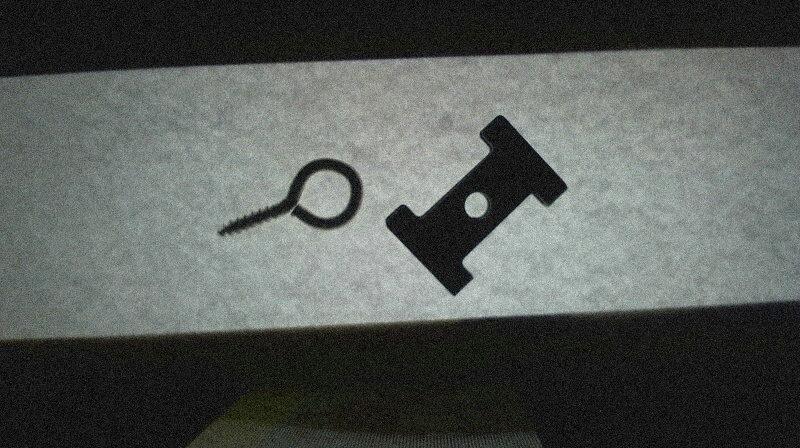O001: (214, 156, 366, 243)
O002: (384, 114, 569, 300)
